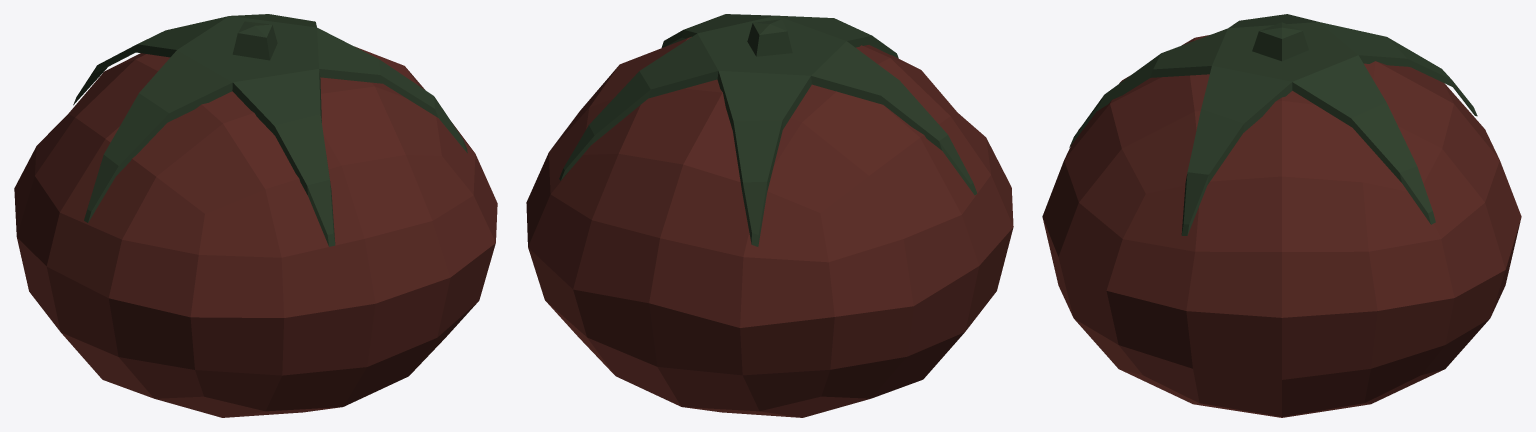
The model's file is food-Tomato.glb.
3 views of the same model, side by side, from view 1: azimuth 30°, elevation 25°; view 2: azimuth 150°, elevation 25°; view 3: azimuth 270°, elevation 25° (orthographic).
Visible parts, largest first — view 1: Tomato; view 2: Tomato; view 3: Tomato.
Boxes of the visible parts, x1,y1,x2,y2 form: Tomato: (14,14,497,417); Tomato: (526,14,1013,417); Tomato: (1042,14,1521,417).
Bounding box in the file's own units: 0.7525 × 0.6264 × 0.7525.
